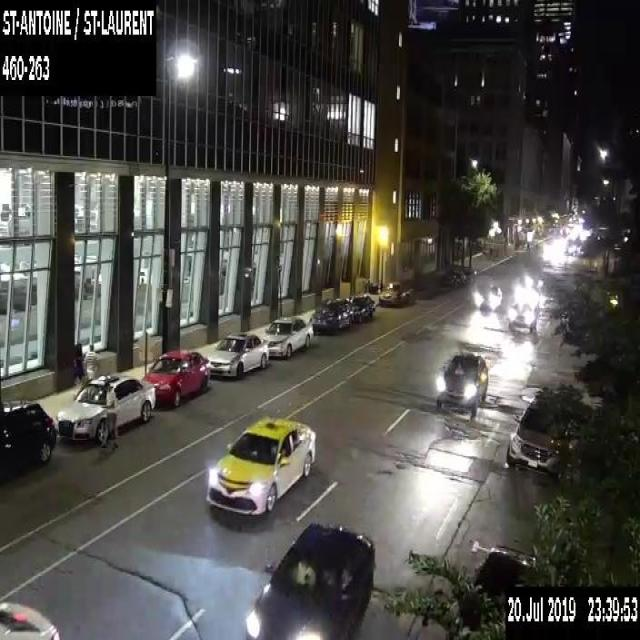construction: (134, 329, 156, 363), (581, 258, 602, 274)
pedestrian: (103, 378, 117, 451), (83, 342, 101, 382), (72, 338, 84, 396), (526, 239, 530, 253)
vehicle: (245, 520, 374, 639), (206, 416, 314, 513), (56, 372, 155, 442), (504, 387, 571, 473), (0, 397, 56, 471), (473, 543, 538, 606), (142, 349, 210, 405), (434, 351, 488, 417), (204, 330, 268, 378), (0, 597, 63, 639), (260, 314, 314, 358), (309, 296, 352, 332), (378, 280, 414, 305), (507, 304, 538, 332), (350, 294, 374, 322), (447, 264, 476, 287), (478, 284, 502, 309), (515, 284, 540, 306), (523, 268, 546, 288)
